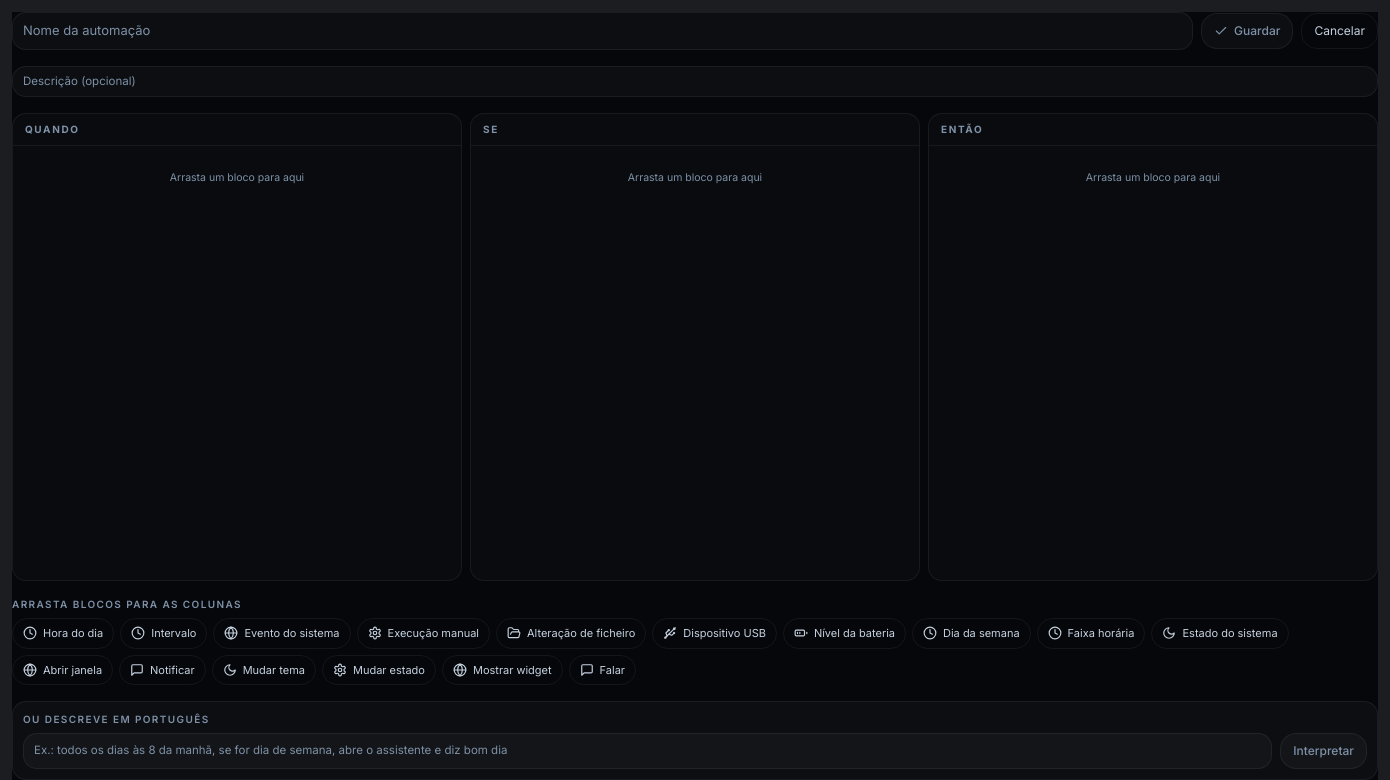
Test: AutomationEditor — geração por linguagem natural › sucesso: preenche nome e descrição, sem mensagem de erro
The width and height of the screenshot is (1390, 780).
Type "todos os dias às 9h, resume os emails não lidos" into the field named "Descrever automação em português" at (648, 751), box [23, 733, 1272, 769]
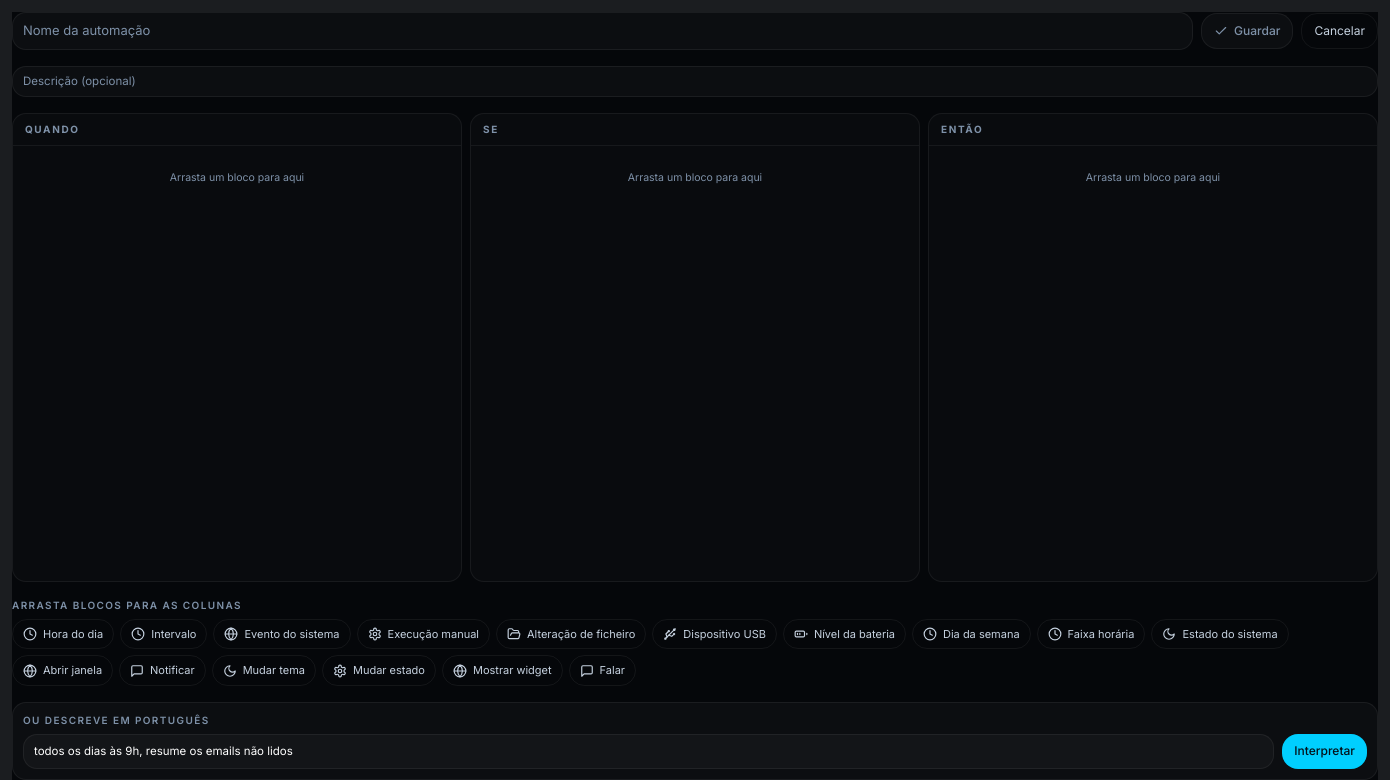
Click the button "Interpretar" at (1325, 751), box [1282, 734, 1367, 769]
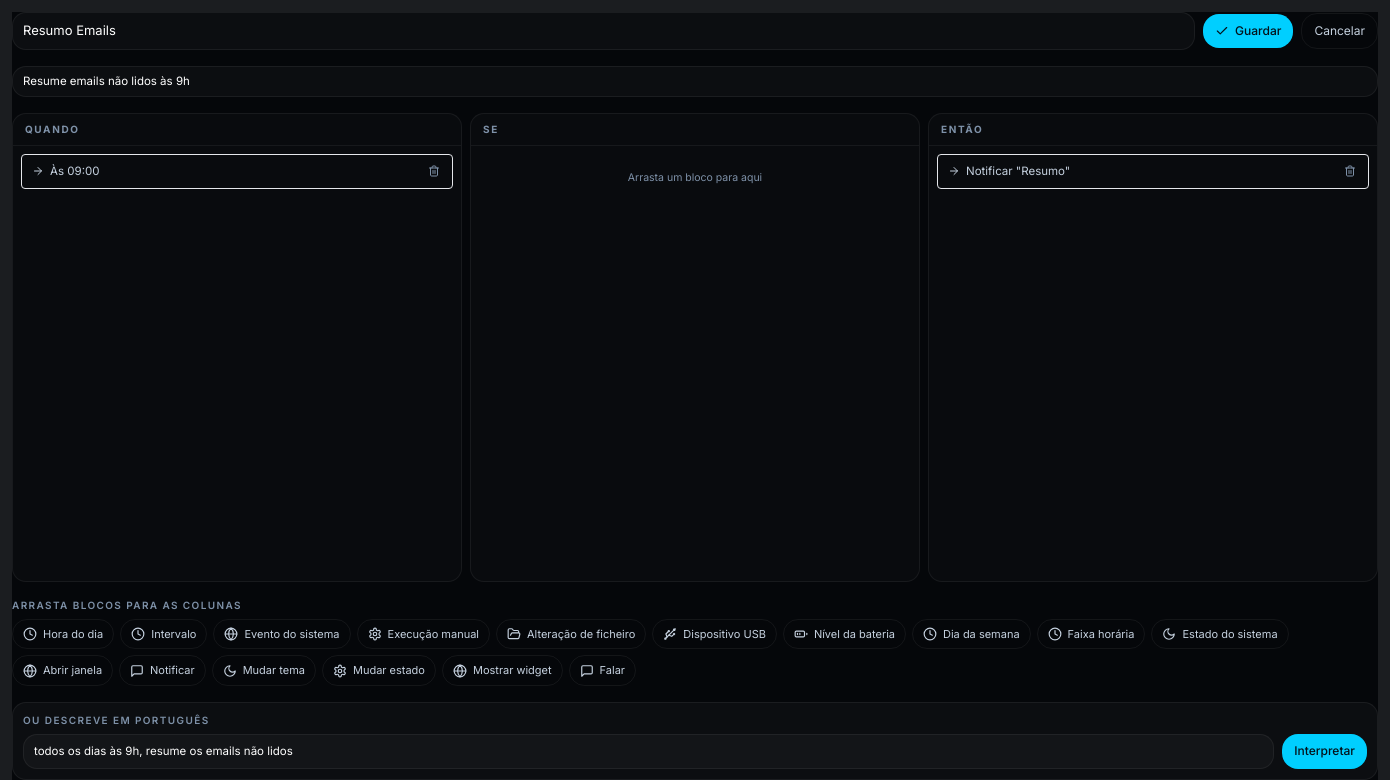
Result: the field named "Nome" holds "Resumo Emails" at [12, 12, 1195, 50]
Result: the field named "Descrição" holds "Resume emails não lidos às 9h" at [12, 66, 1378, 97]
